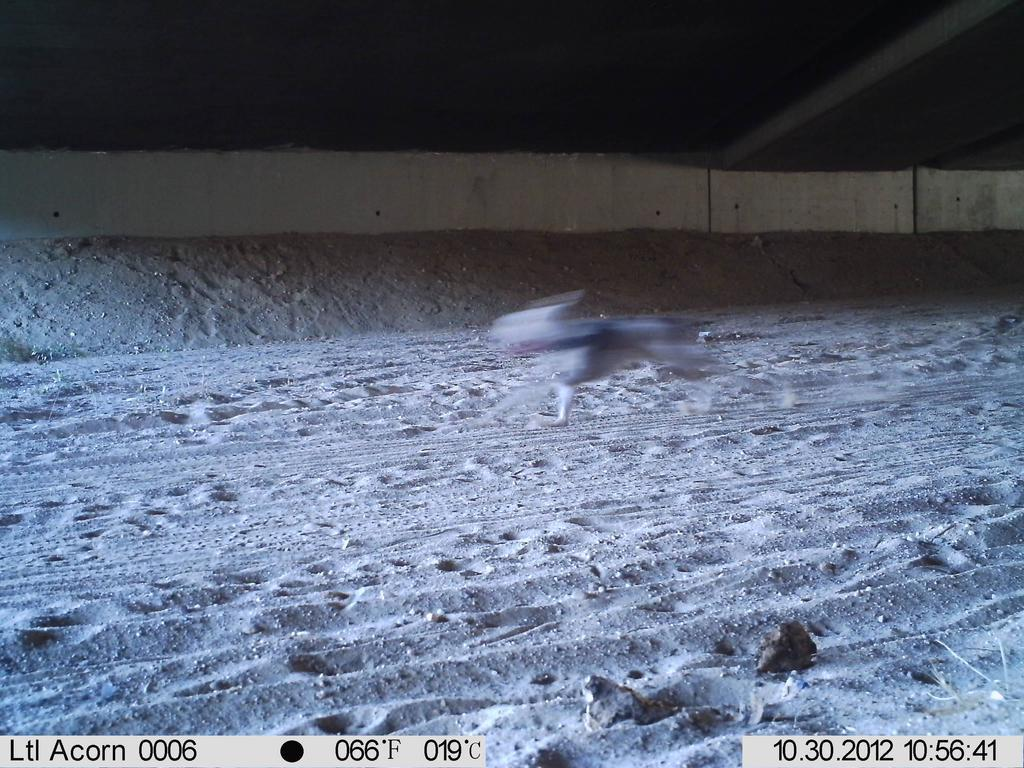dog: (483, 282, 763, 436)
